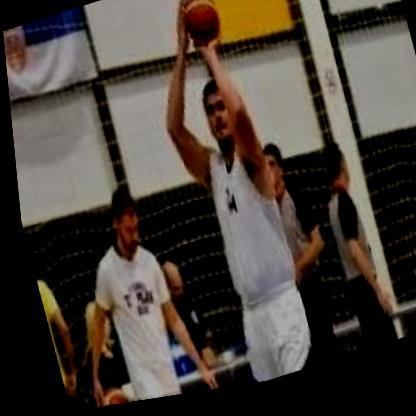basketball: (174, 0, 227, 60)
